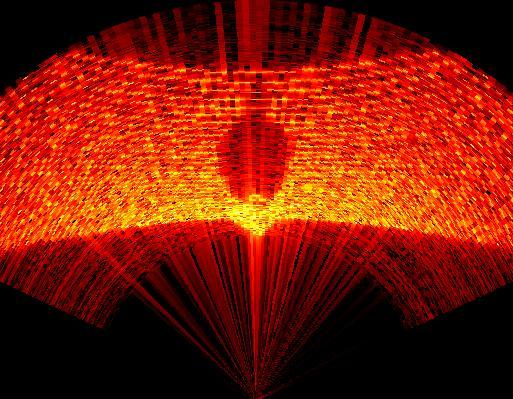box_crate: (215, 111, 299, 237)
